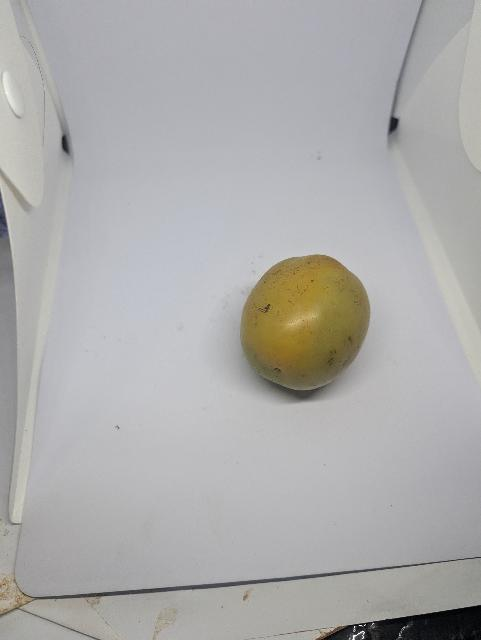breaker: (236, 251, 377, 396)
